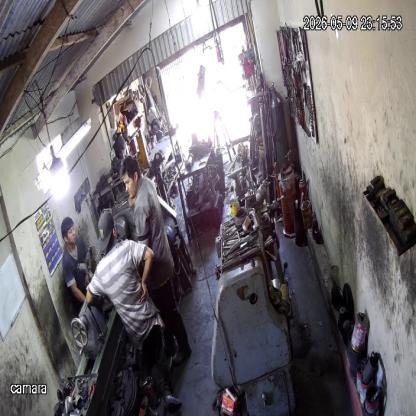sin_lentes: (66, 226, 76, 236)
